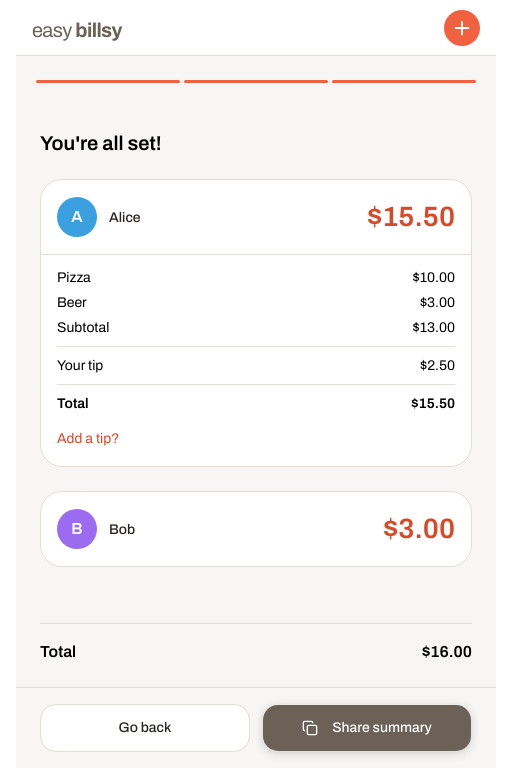
PersonResultsScreen › Test 7 (accordion expand/collapse): current user expanded, others collapsed by default; tapping Bob's card expands it
expect the list item with test id "results-row-i1" is shown: met, box [57, 267, 455, 288]
// Tap Bob's card to expand it
Step 1. Click the button with aria-label "Bob's breakdown" → (77, 529), box [57, 509, 455, 549]
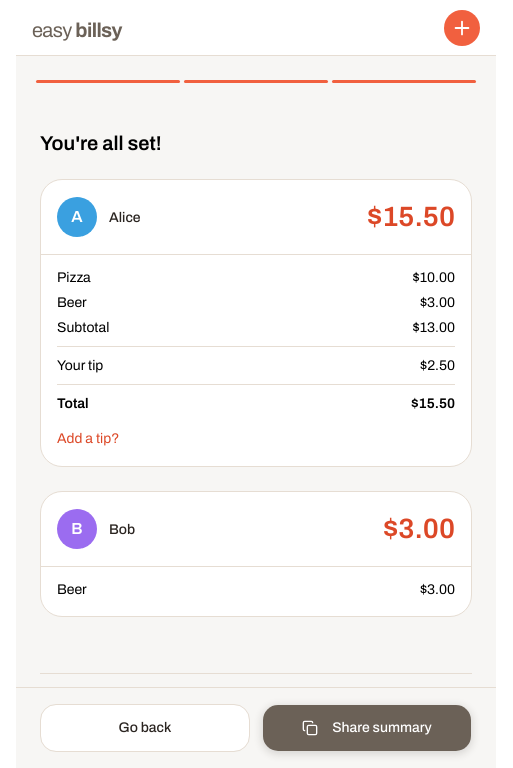
expect the list item with test id "results-row-p2-i2" is shown: met, box [57, 579, 455, 600]
